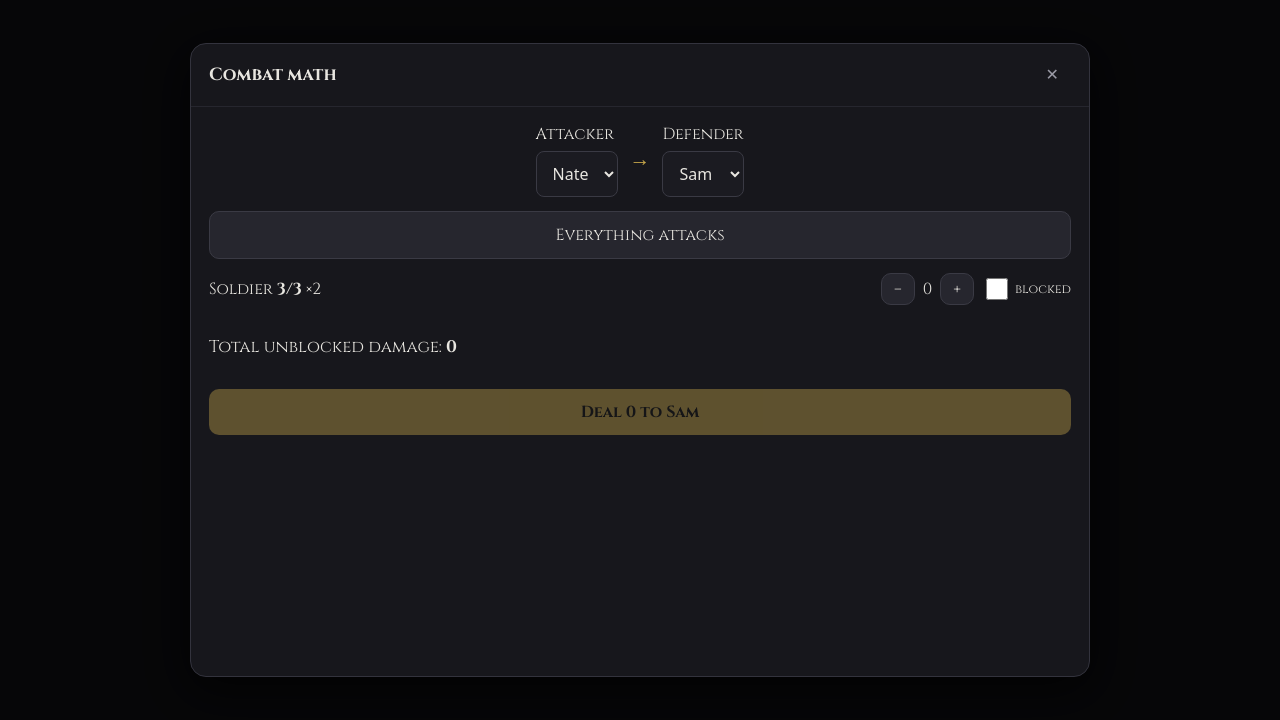
Scenario: blocked stacks are excluded from the total
Click the button "Everything attacks": [640, 235] box [209,211,1071,259]
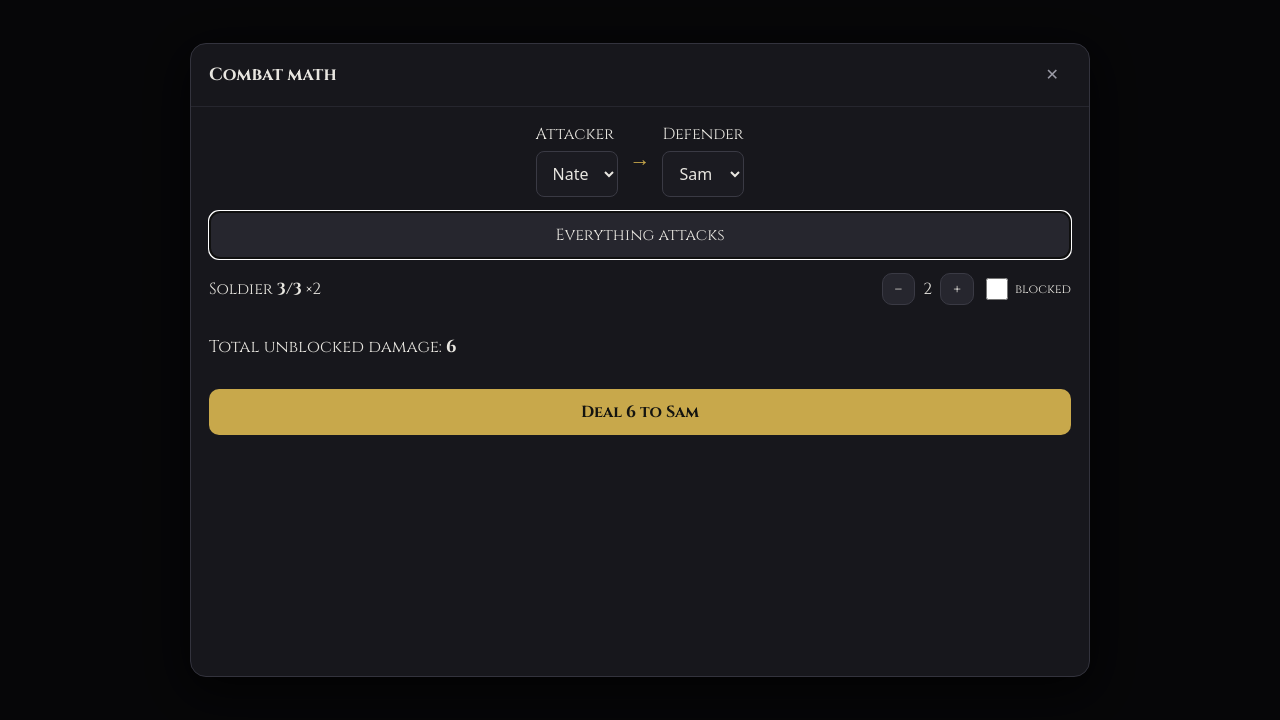
Click the checkbox named "soldier blocked": [997, 289] box [986,278,1008,300]
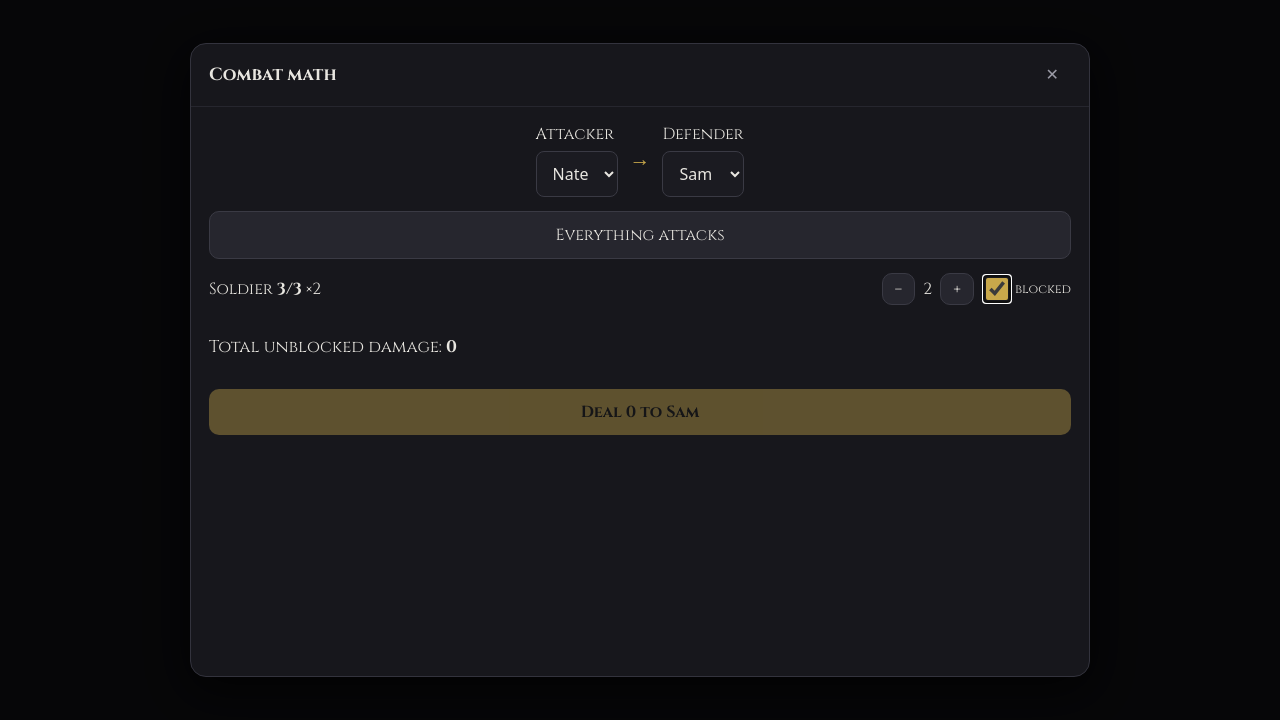
Expected: the element with test id "combat-total" shows "0", [446,336,457,358]
